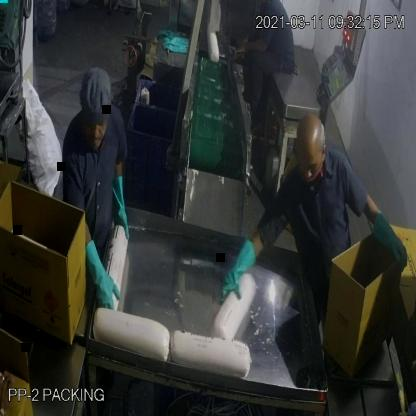glove: (213, 229, 258, 309), (370, 203, 409, 273), (104, 163, 134, 244)
no_glove: (230, 32, 279, 70)
